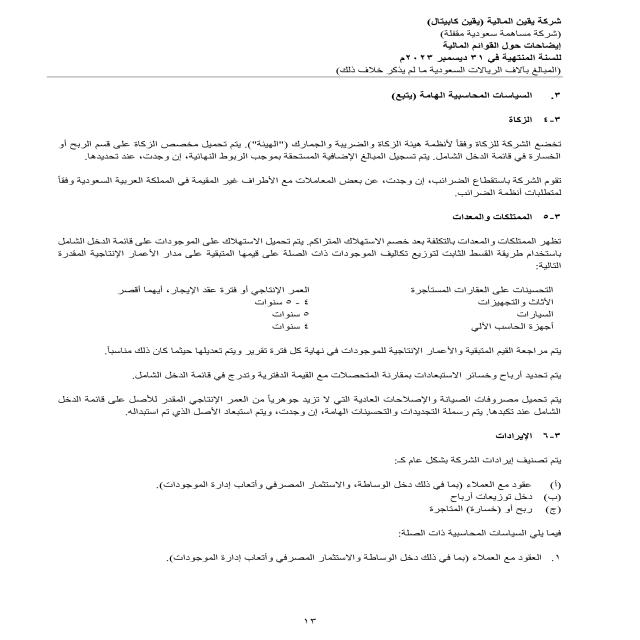notes: (428, 41, 568, 51)
text: (25, 91, 584, 598)
